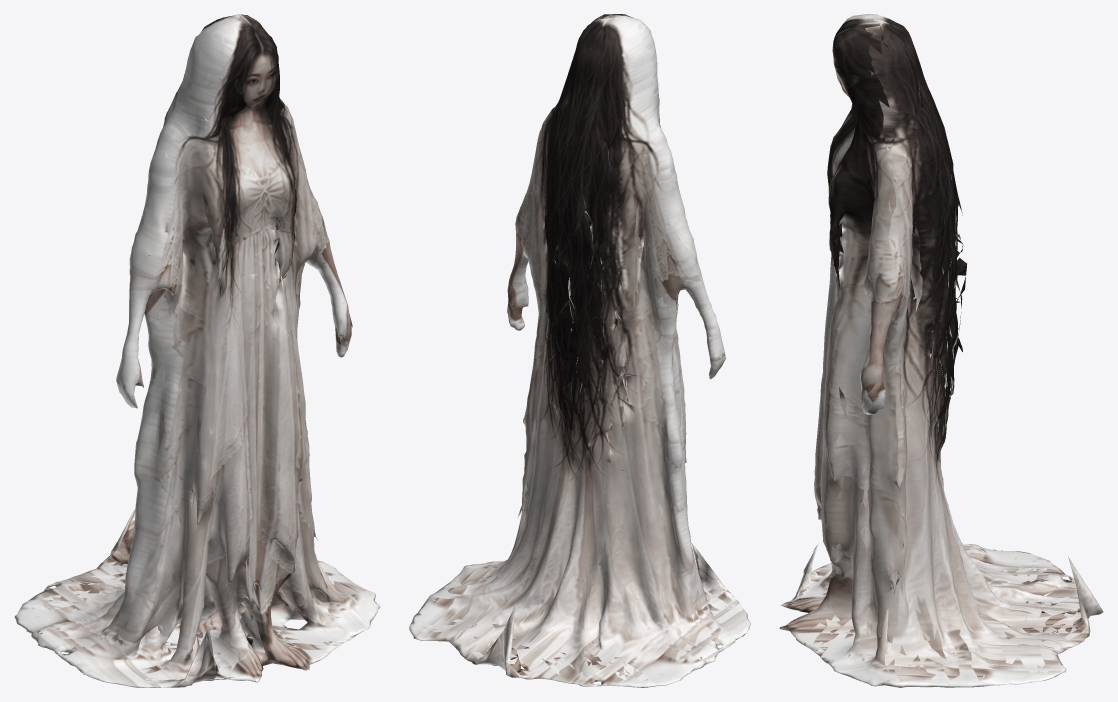
Rendered from ghost_alive.glb.
3 renders of one model, left to right at view 1: azimuth 30°, elevation 25°; view 2: azimuth 150°, elevation 25°; view 3: azimuth 270°, elevation 25°, orthographic. The views are drawn at different scales.
Parts seen in each view (by area): view 1: geometry_0; view 2: geometry_0; view 3: geometry_0.
Boxes of the visible parts, box(x1,y1,x2,y2) form: geometry_0: box(14, 14, 380, 687); geometry_0: box(409, 14, 750, 687); geometry_0: box(779, 14, 1103, 687).
Bounding box in the file's own units: 0.9972 × 1.97 × 0.9599.
Materials: 1 (1 with a texture image).
